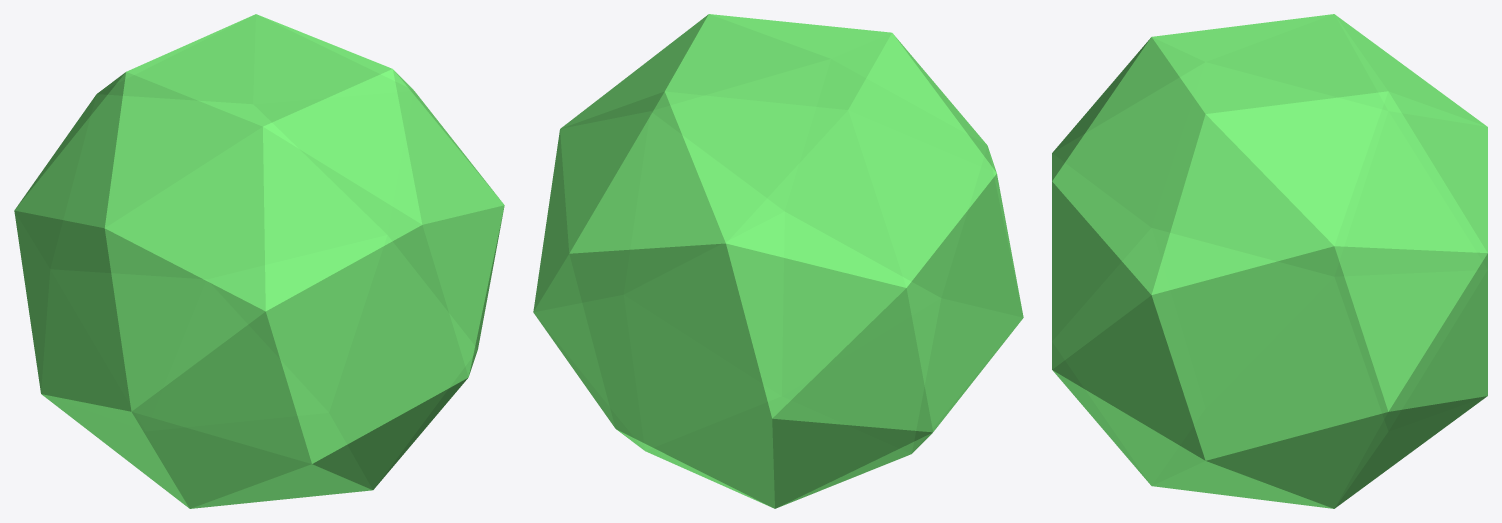
File: SnubCube1.obj
The picture shows the model from 3 angles, left to right: view 1: azimuth 30°, elevation 25°; view 2: azimuth 150°, elevation 25°; view 3: azimuth 270°, elevation 25°; orthographic projection.
Size of the model in its own units: 2.29 by 2.29 by 2.29.
